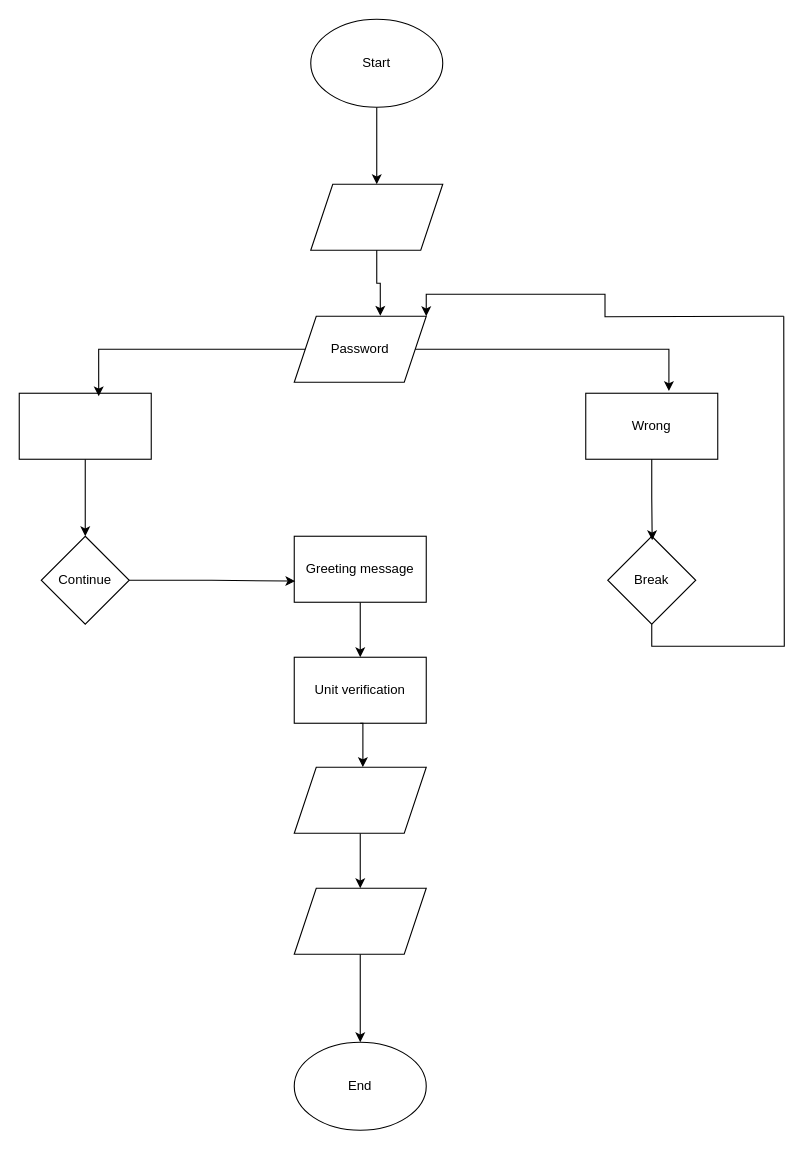
The diagram is 812 pixels wide and 1150 high, and some of its shapes have lost their labels. Each missing label, with the box of its shape:
Correct: (18, 392, 151, 459)
Enter your name: (310, 183, 443, 250)
Unit in In: (293, 887, 426, 954)
Value input: (293, 766, 426, 833)
